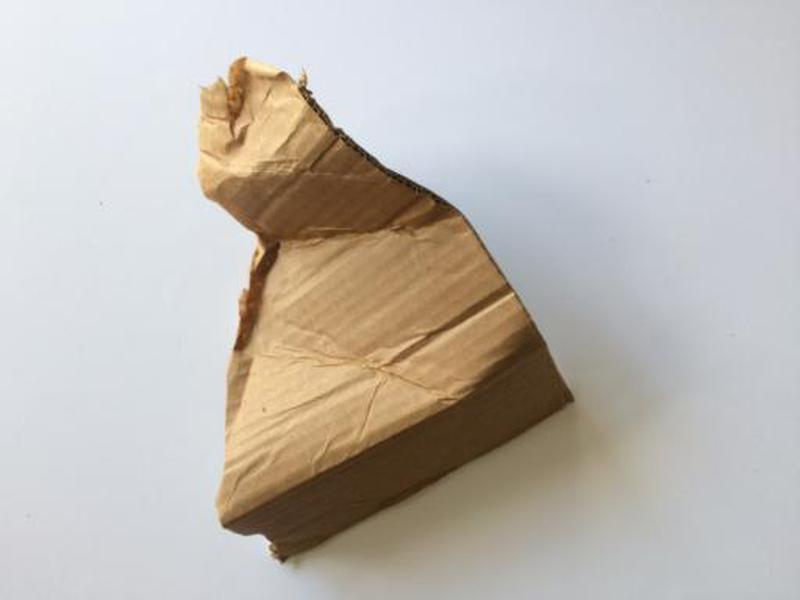cardboard: (185, 50, 584, 567)
